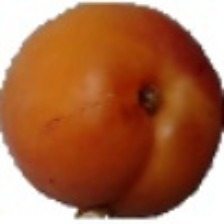apricot: (36, 42, 209, 192)
